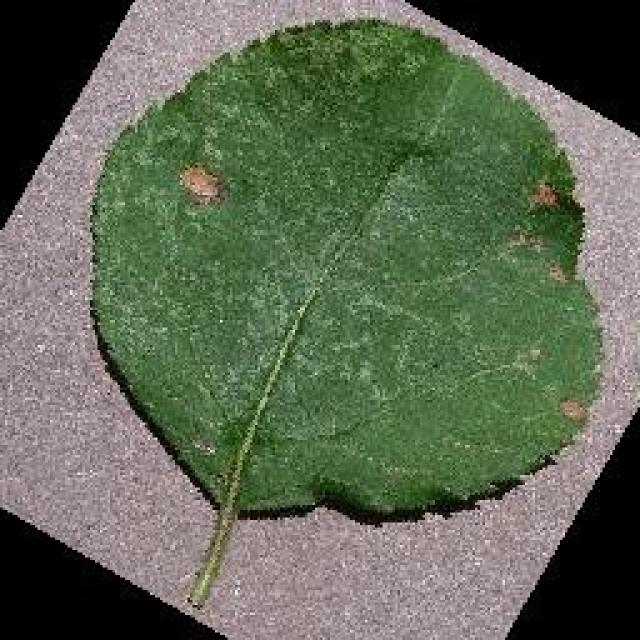Black_rot: (85, 12, 605, 608)
